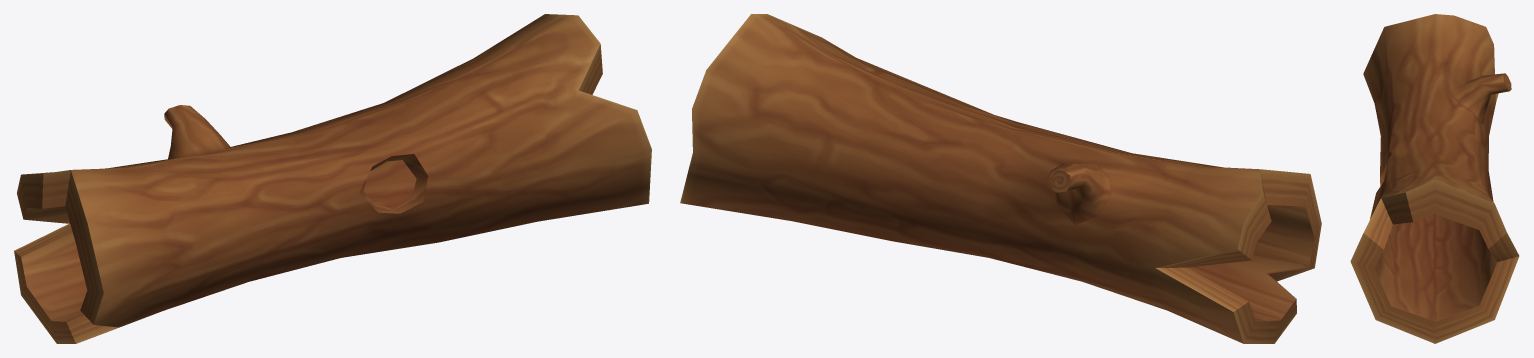
The model's file is Log #1.fbx.
The picture shows the model from 3 angles, left to right: view 1: azimuth 30°, elevation 25°; view 2: azimuth 150°, elevation 25°; view 3: azimuth 270°, elevation 25°; orthographic projection. The views are drawn at different scales.
Parts seen in each view (by area): view 1: Log #1; view 2: Log #1; view 3: Log #1.
Boxes of the visible parts, <box> form: Log #1: <box>14,14,651,343</box>; Log #1: <box>680,14,1321,343</box>; Log #1: <box>1350,14,1519,343</box>.
Size of the model in its own units: 206 by 70.22 by 69.83.
1 material, 1 textured.
